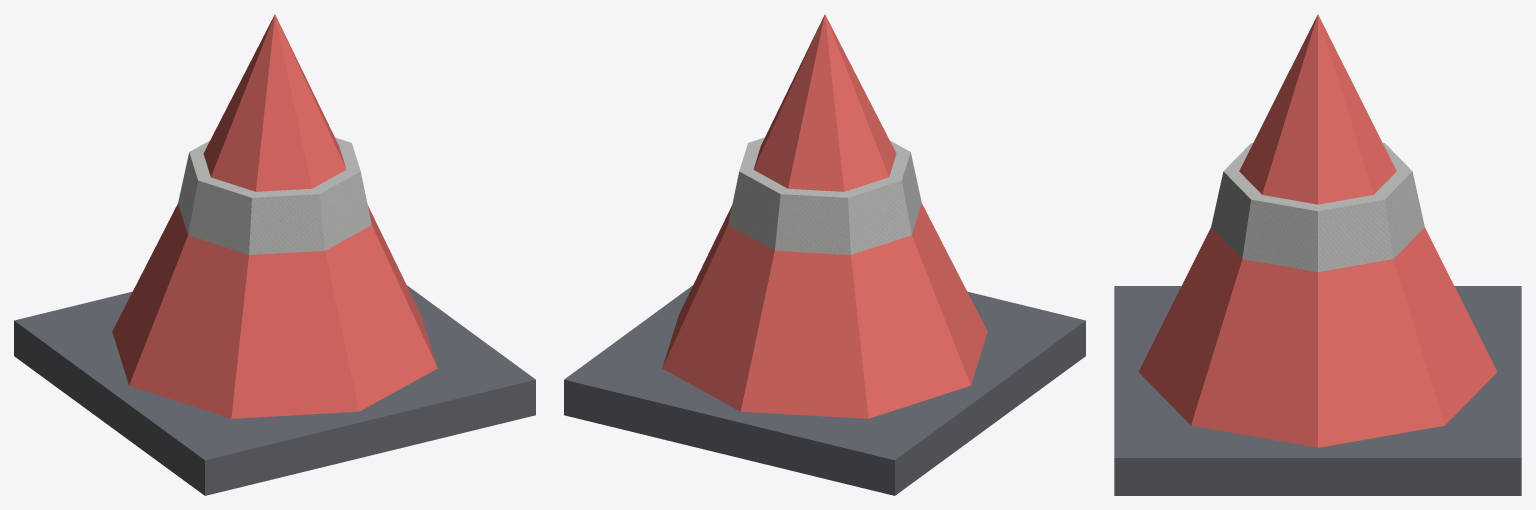
Rendered from go-kart-track-and-pit-lane-apex-marker-cone-a2900ea8__34342.glb.
3 renders of one model, left to right at view 1: azimuth 30°, elevation 25°; view 2: azimuth 150°, elevation 25°; view 3: azimuth 270°, elevation 25°, orthographic. The views are drawn at different scales.
Visible parts, largest first — view 1: apex-marker-cone-red, apex-marker-cone-charcoal, apex-marker-cone-concrete; view 2: apex-marker-cone-red, apex-marker-cone-charcoal, apex-marker-cone-concrete; view 3: apex-marker-cone-red, apex-marker-cone-charcoal, apex-marker-cone-concrete.
Part boxes in pixels (left/top/right/bottom): apex-marker-cone-red: left=112, top=14, right=437, bottom=418; apex-marker-cone-charcoal: left=14, top=285, right=535, bottom=495; apex-marker-cone-concrete: left=178, top=137, right=371, bottom=254; apex-marker-cone-red: left=662, top=14, right=987, bottom=418; apex-marker-cone-charcoal: left=564, top=285, right=1085, bottom=495; apex-marker-cone-concrete: left=728, top=137, right=921, bottom=254; apex-marker-cone-red: left=1138, top=14, right=1497, bottom=447; apex-marker-cone-charcoal: left=1114, top=286, right=1521, bottom=495; apex-marker-cone-concrete: left=1211, top=142, right=1424, bottom=272.
Size of the model in its own units: 0.34 by 0.365 by 0.34.
Materials: 3 (1 with a texture image).
